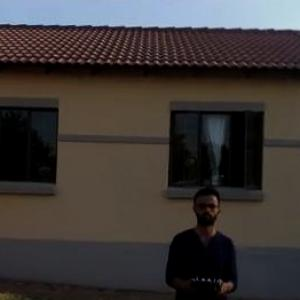follow: (162, 181, 240, 299)
